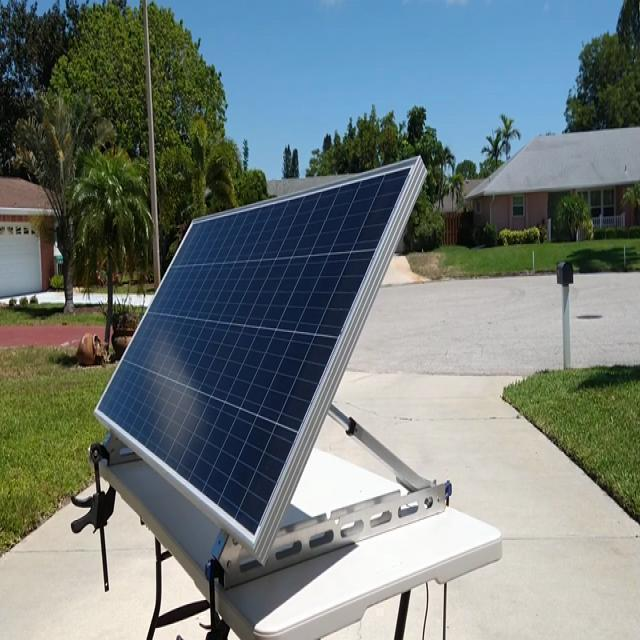Normal Solar Panel: (95, 160, 418, 546)
